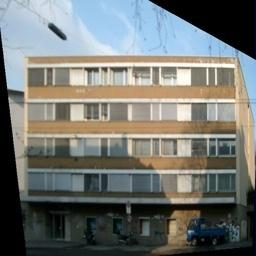building: (17, 49, 239, 241)
